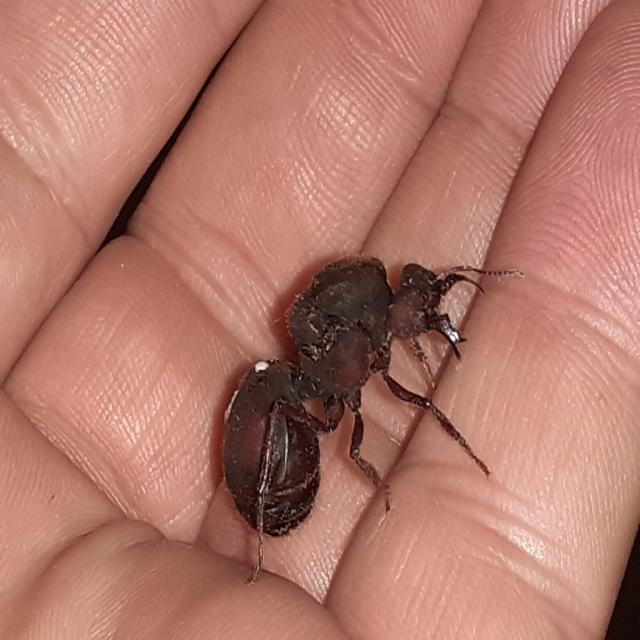Dead-Female-Dealate: (221, 255, 524, 586)
